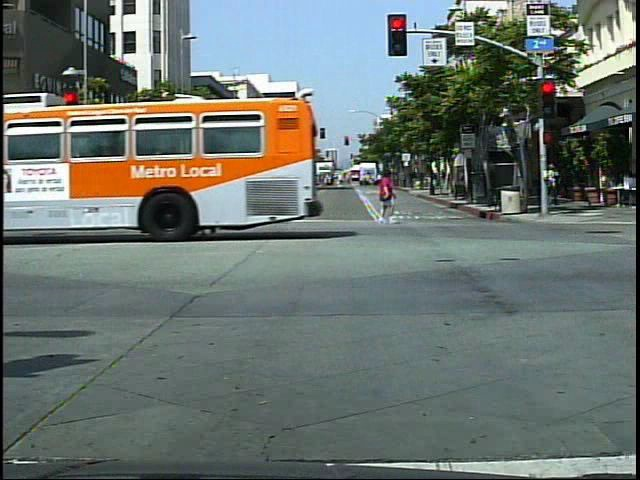person: (257, 166, 289, 229), (150, 169, 179, 235), (375, 167, 399, 227), (546, 161, 564, 211)
